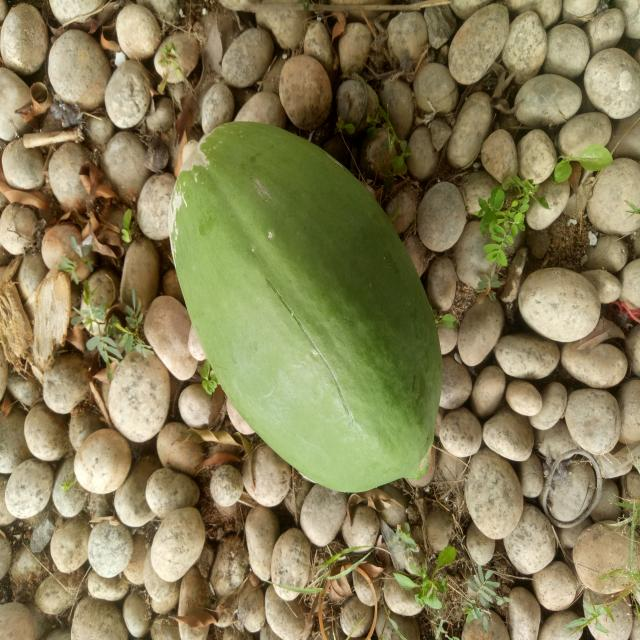Pepaya unrippen: (155, 123, 445, 490)
